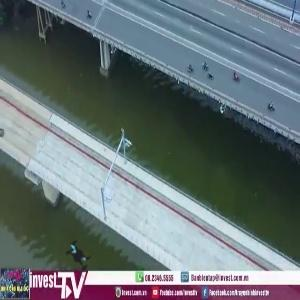drone: (48, 226, 110, 288)
